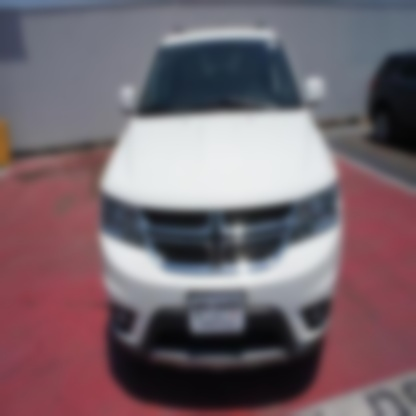Vehicle: (101, 25, 341, 371)
